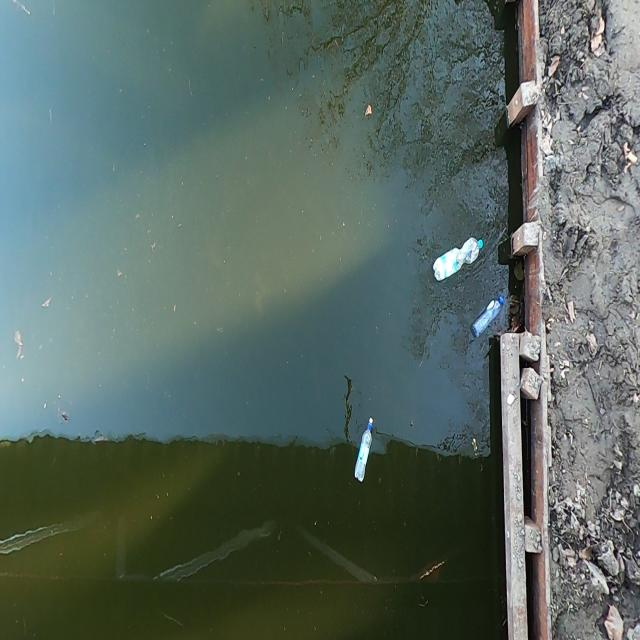Bouteille plastique: (432, 230, 486, 286), (466, 294, 507, 341), (355, 413, 375, 486)
